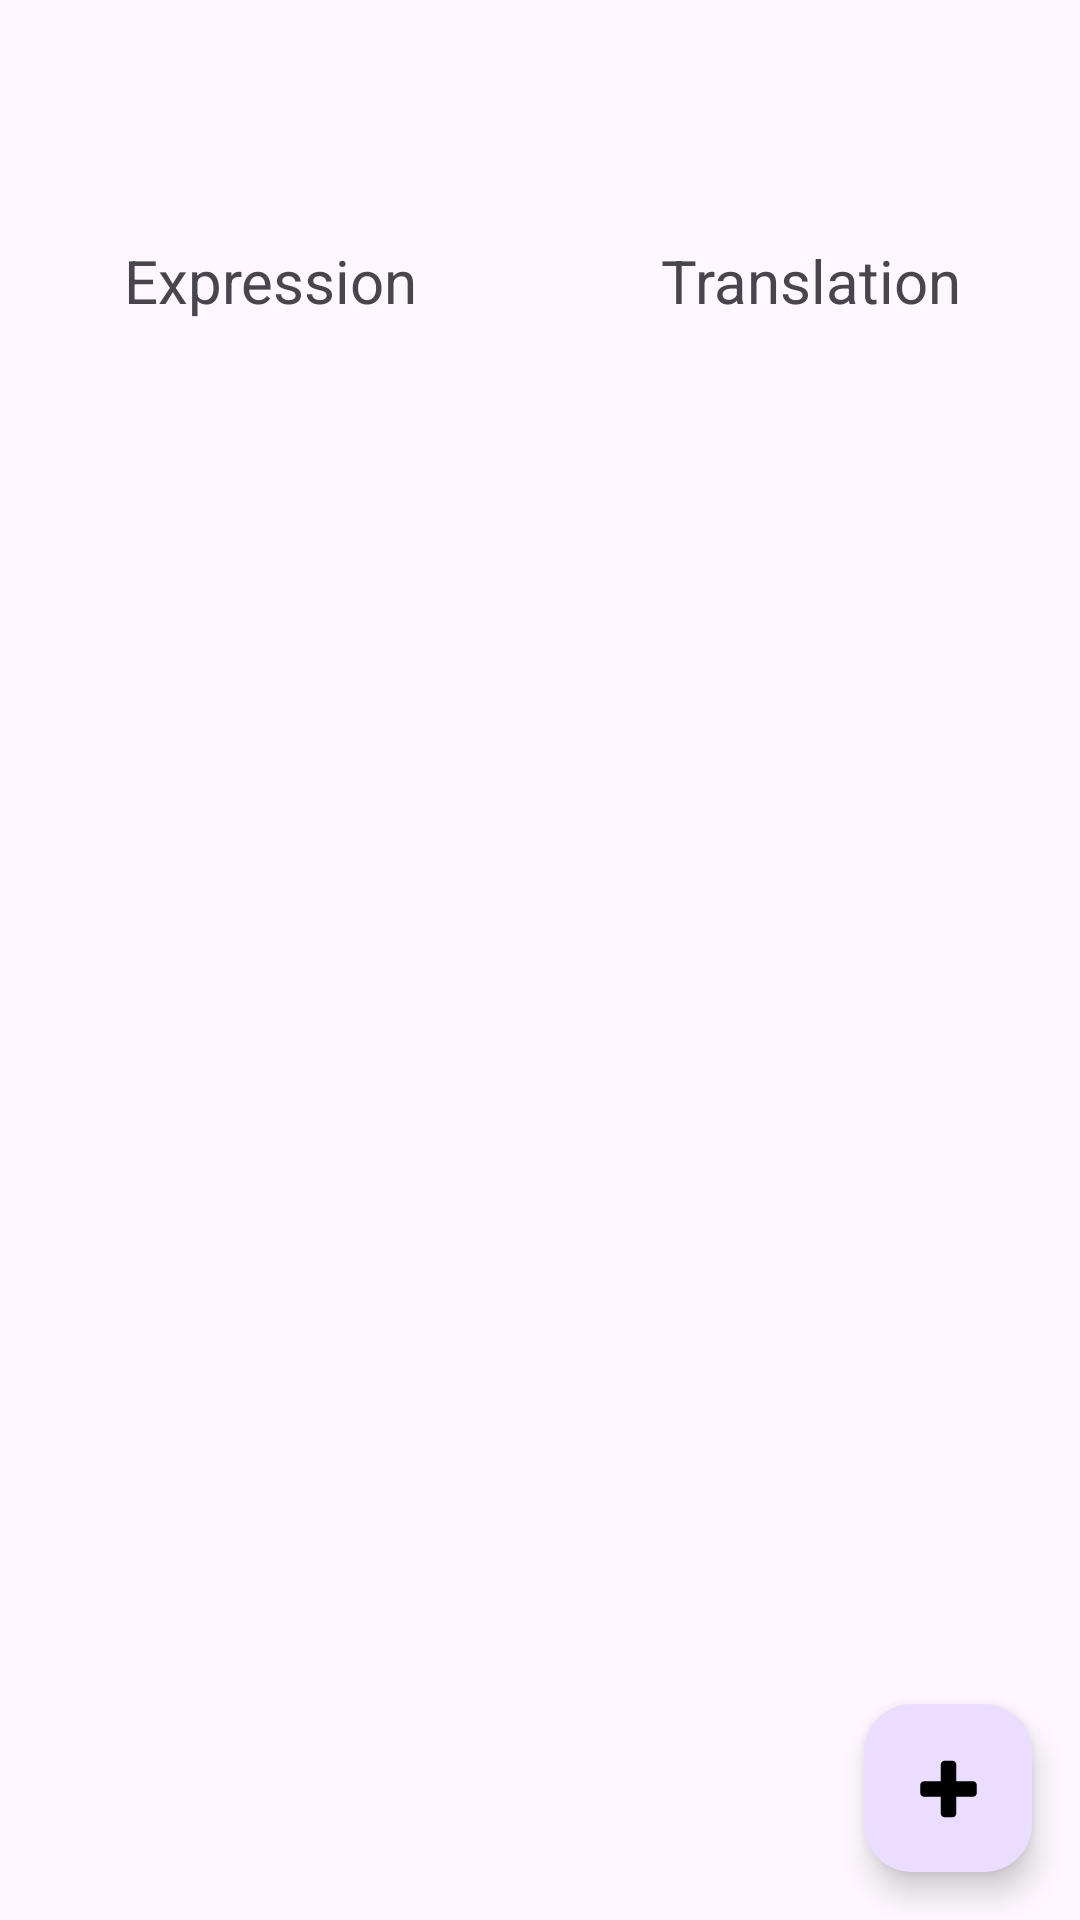

Point at icon controls on the screen. Image size 1080 × 1920, points as [x,y].
plus symbol: [948,1788]
